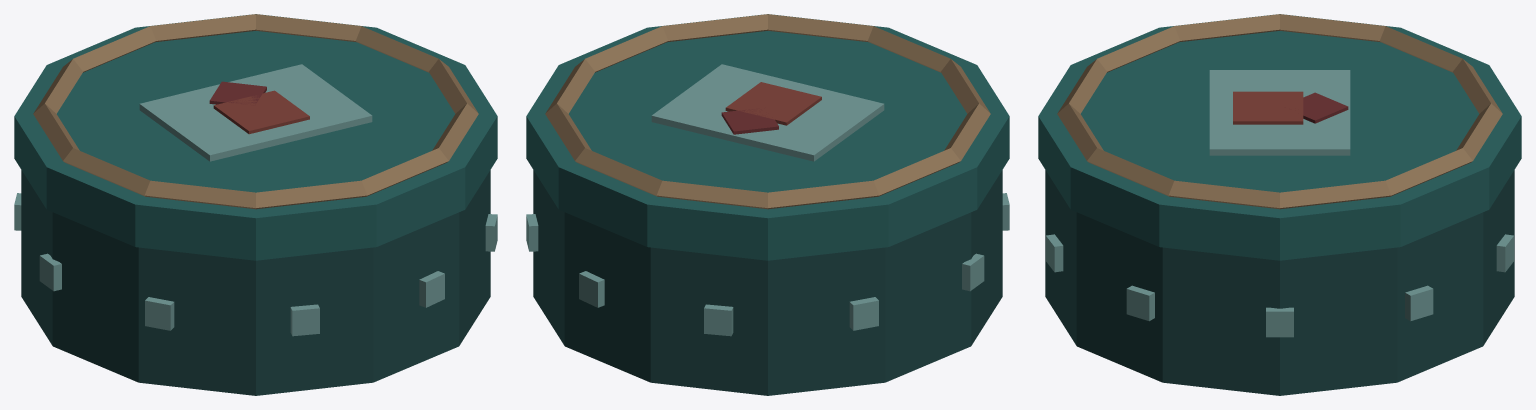
Rendered from cutie_biscuiti.glb.
3 views of the same model, side by side, from view 1: azimuth 30°, elevation 25°; view 2: azimuth 150°, elevation 25°; view 3: azimuth 270°, elevation 25° (orthographic).
Parts seen in each view (by area): view 1: CutieBiscuiti; view 2: CutieBiscuiti; view 3: CutieBiscuiti.
Part boxes in pixels (x1=…): CutieBiscuiti: x1=14, y1=14, x2=497, y2=395; CutieBiscuiti: x1=526, y1=14, x2=1009, y2=395; CutieBiscuiti: x1=1038, y1=14, x2=1521, y2=395.
Bounding box in the file's own units: 0.206 × 0.091 × 0.206.
